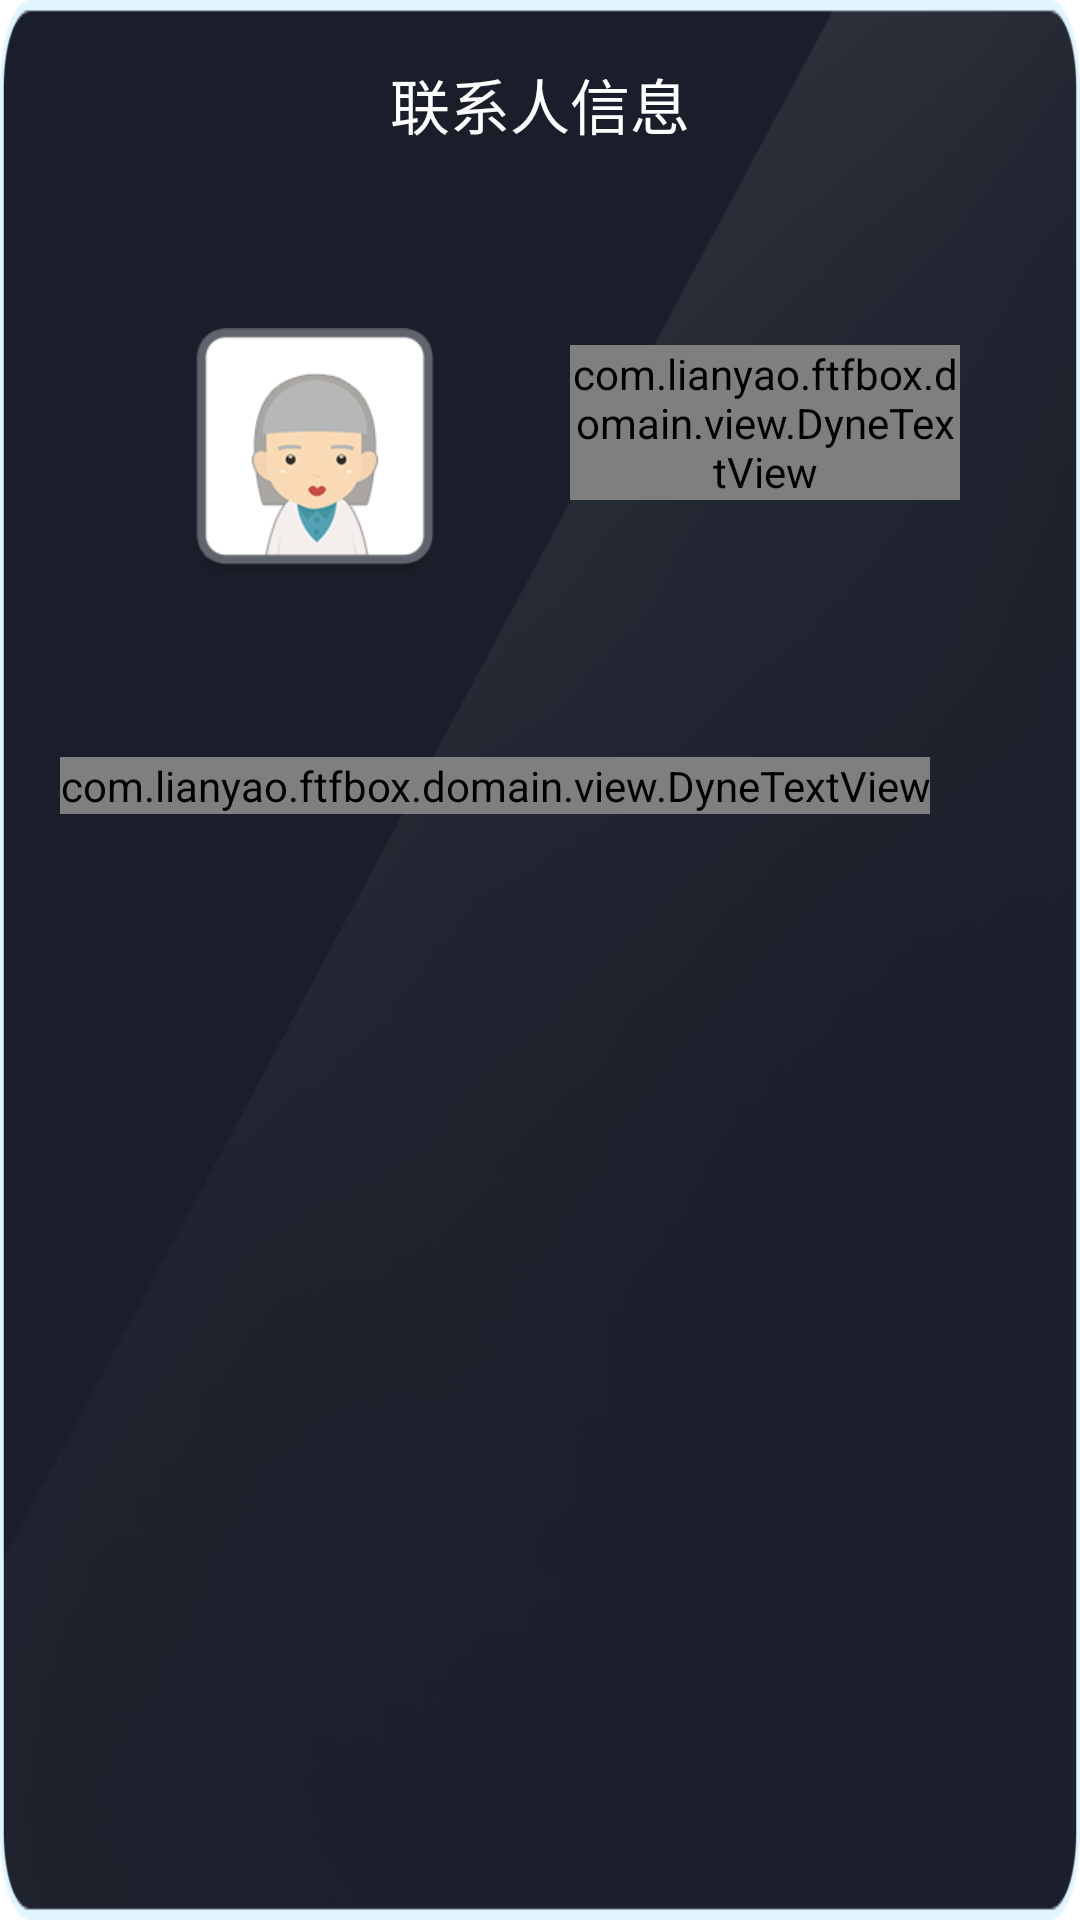

Screen size 1080w x 1920h. Icon name, then its box in pixels as (x1, y1, x2, y2):
nai: (197, 328, 433, 564)
